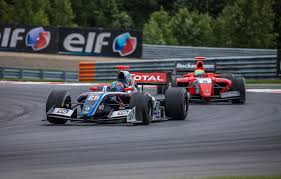FormulaOneCar: (42, 64, 189, 129), (167, 57, 248, 107)
